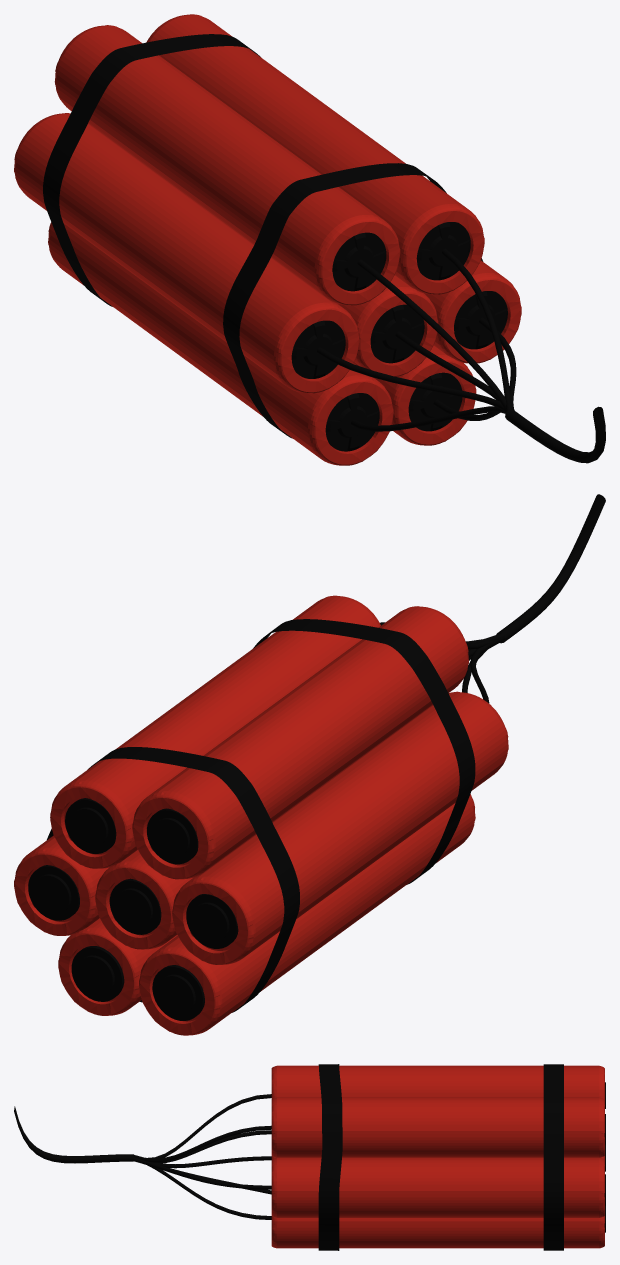
The model's file is Dynamite.fbx.
3 renders of one model, top to bottom at view 1: azimuth 30°, elevation 25°; view 2: azimuth 150°, elevation 25°; view 3: azimuth 270°, elevation 25°, orthographic. The views are drawn at different scales.
Parts seen in each view (by area): view 1: Cylinder.010, Cylinder.012, Cylinder.008, Cylinder.004, BezierCircle.001, BezierCircle, Cylinder.006, Cylinder, Cylinder.002, Cylinder.005, Cylinder.011, Cylinder.009 (+10 smaller); view 2: Cylinder.010, Cylinder.012, Cylinder.008, Cylinder.004, BezierCircle, BezierCircle.001, Cylinder.006, Cylinder, Cylinder.002, Cylinder.030, Cylinder.029, Cylinder.026 (+5 smaller); view 3: Cylinder.008, Cylinder.006, Cylinder.010, Cylinder.002, BezierCircle.001, BezierCircle, BezierCurve.007, BezierCurve.003, BezierCurve.004, BezierCurve.001, BezierCurve.005, BezierCurve (+1 smaller).
Boxes of the visible parts, x1=… form: Cylinder.010: x1=54, y1=25, x2=400, y2=305; Cylinder.012: x1=14, y1=113, x2=359, y2=393; Cylinder.008: x1=146, y1=14, x2=484, y2=294; Cylinder.004: x1=48, y1=222, x2=393, y2=465; BezierCircle.001: x1=223, y1=163, x2=483, y2=438; BezierCircle: x1=43, y1=34, x2=260, y2=306; Cylinder.006: x1=424, y1=260, x2=521, y2=363; Cylinder: x1=338, y1=275, x2=438, y2=376; Cylinder.002: x1=354, y1=345, x2=476, y2=445; Cylinder.005: x1=325, y1=393, x2=379, y2=451; Cylinder.011: x1=332, y1=232, x2=386, y2=291; Cylinder.009: x1=416, y1=222, x2=470, y2=280; Cylinder.010: x1=132, y1=606, x2=468, y2=879; Cylinder.012: x1=172, y1=691, x2=508, y2=964; Cylinder.008: x1=50, y1=595, x2=380, y2=868; Cylinder.004: x1=139, y1=794, x2=475, y2=1035; BezierCircle: x1=47, y1=747, x2=299, y2=1012; BezierCircle.001: x1=253, y1=619, x2=475, y2=884; Cylinder.006: x1=14, y1=835, x2=108, y2=935; Cylinder: x1=95, y1=850, x2=192, y2=949; Cylinder.002: x1=58, y1=918, x2=177, y2=1015; Cylinder.030: x1=71, y1=946, x2=124, y2=1001; Cylinder.029: x1=152, y1=965, x2=204, y2=1020; Cylinder.026: x1=109, y1=878, x2=161, y2=934; Cylinder.008: x1=271, y1=1097, x2=604, y2=1157; Cylinder.006: x1=271, y1=1157, x2=604, y2=1217; Cylinder.010: x1=271, y1=1065, x2=604, y2=1099; Cylinder.002: x1=271, y1=1216, x2=604, y2=1248; BezierCircle.001: x1=318, y1=1064, x2=342, y2=1250; BezierCircle: x1=543, y1=1064, x2=563, y2=1250; BezierCurve.007: x1=14, y1=1106, x2=133, y2=1163; BezierCurve.003: x1=133, y1=1157, x2=271, y2=1189; BezierCurve.004: x1=133, y1=1125, x2=271, y2=1162; BezierCurve.001: x1=147, y1=1165, x2=271, y2=1219; BezierCurve.005: x1=148, y1=1094, x2=271, y2=1158; BezierCurve: x1=152, y1=1156, x2=271, y2=1168.
Size of the model in its own units: 231 by 225 by 764.
